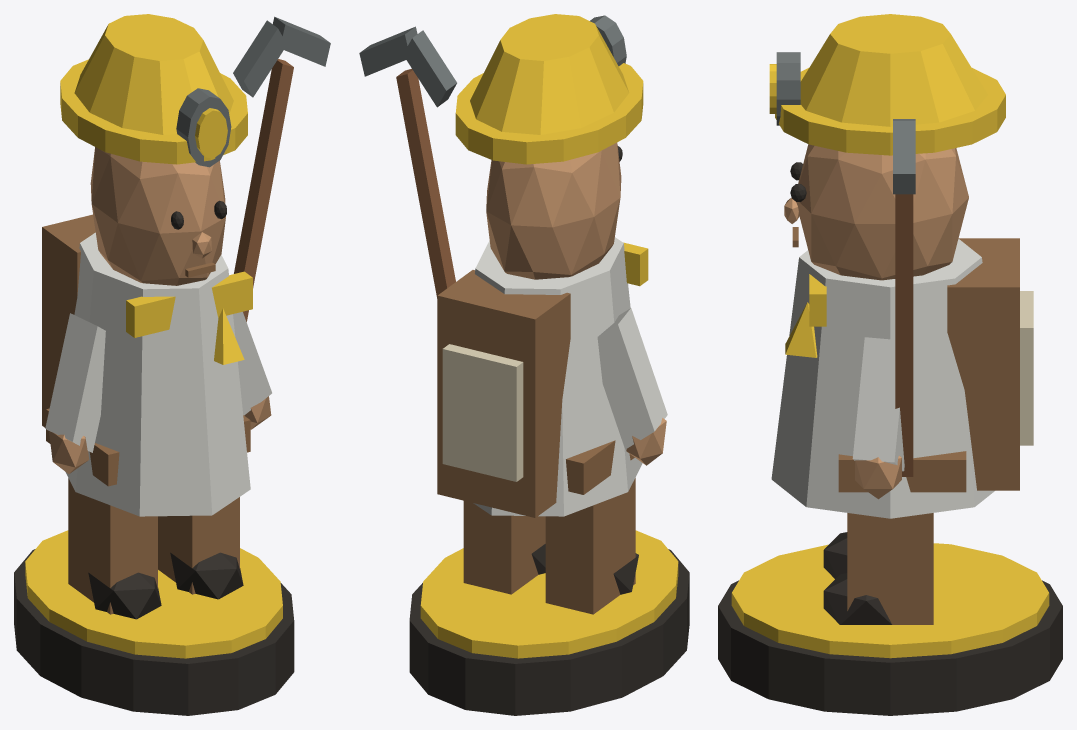
The model's file is peao_garimpeiro_ipe.glb.
The picture shows the model from 3 angles, left to right: view 1: azimuth 30°, elevation 25°; view 2: azimuth 150°, elevation 25°; view 3: azimuth 270°, elevation 25°; orthographic projection. The views are drawn at different scales.
Parts seen in each view (by area): view 1: peao_garimpeiro_ipe; view 2: peao_garimpeiro_ipe; view 3: peao_garimpeiro_ipe.
Boxes of the visible parts, x1,y1,x2,y2 form: peao_garimpeiro_ipe: [14, 14, 330, 715]; peao_garimpeiro_ipe: [359, 14, 689, 715]; peao_garimpeiro_ipe: [718, 14, 1062, 715].
Bounding box in the file's own units: 2 × 4 × 2.
